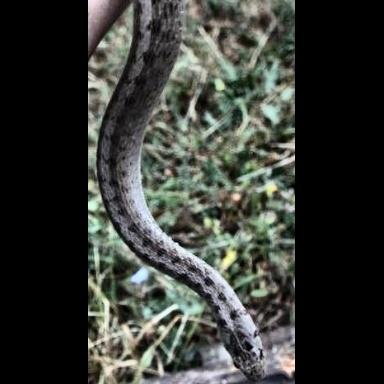snake: (91, 0, 287, 384)
